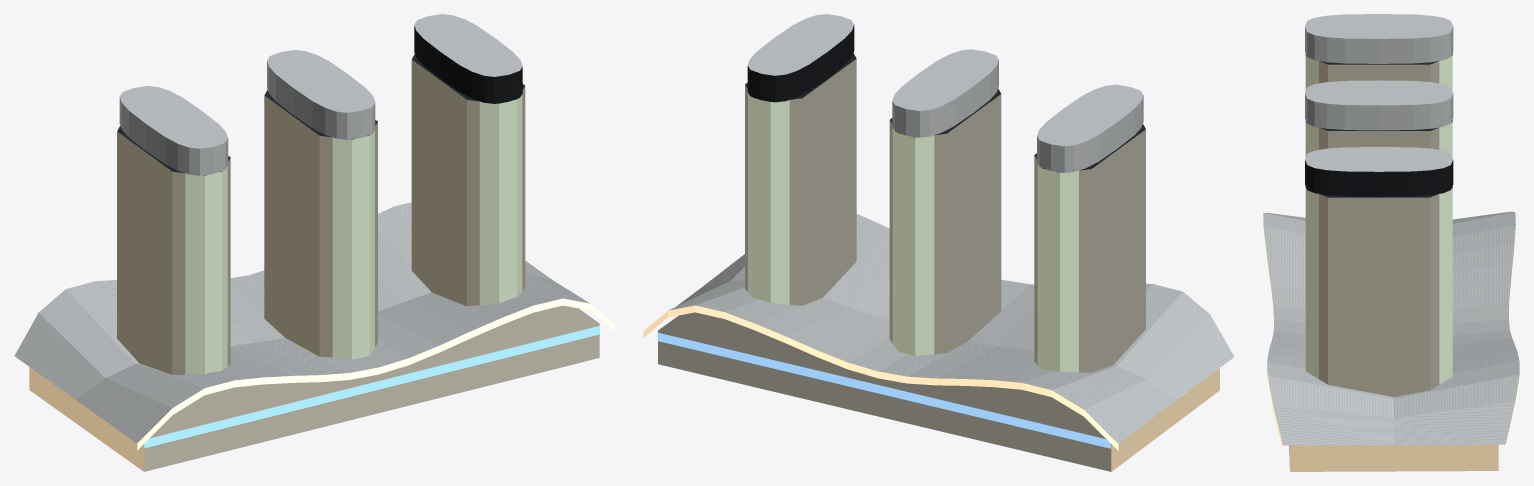
Rendered from centaurus_far.glb.
3 renders of one model, left to right at view 1: azimuth 30°, elevation 25°; view 2: azimuth 150°, elevation 25°; view 3: azimuth 270°, elevation 25°, orthographic. The views are drawn at different scales.
Visible parts, largest first — view 1: m_far_broad, m_mall_roof, m_far_barrel, m_panel_cream, m_crown_metal, m_ribbon_glass, m_roof_fascia, m_hotel_crown, m_entry_glass, m_dark_reveal; view 2: m_far_broad, m_mall_roof, m_far_barrel, m_panel_cream, m_crown_metal, m_ribbon_glass, m_roof_fascia, m_hotel_crown, m_entry_glass, m_dark_reveal; view 3: m_mall_roof, m_far_broad, m_crown_metal, m_far_barrel, m_entry_glass, m_hotel_crown, m_dark_reveal, m_roof_fascia.
Part boxes in pixels (box(x1,y1,x2,y2)): m_far_broad: box(117, 60, 525, 374); m_mall_roof: box(14, 202, 589, 443); m_far_barrel: box(185, 94, 522, 374); m_panel_cream: box(144, 305, 599, 471); m_crown_metal: box(119, 14, 522, 175); m_ribbon_glass: box(144, 326, 599, 448); m_roof_fascia: box(137, 298, 614, 450); m_hotel_crown: box(414, 25, 522, 103); m_entry_glass: box(29, 367, 144, 471); m_dark_reveal: box(117, 54, 524, 175); m_far_broad: box(745, 59, 1145, 372); m_mall_roof: box(668, 214, 1234, 443); m_far_barrel: box(748, 93, 1078, 372); m_panel_cream: box(658, 312, 1111, 471); m_crown_metal: box(747, 14, 1143, 172); m_ribbon_glass: box(657, 332, 1110, 448); m_roof_fascia: box(643, 305, 1118, 450); m_hotel_crown: box(747, 25, 854, 102); m_entry_glass: box(1111, 368, 1219, 471); m_dark_reveal: box(745, 53, 1145, 172); m_mall_roof: box(1263, 211, 1519, 445); m_far_broad: box(1319, 61, 1439, 396); m_crown_metal: box(1305, 14, 1453, 171); m_far_barrel: box(1305, 55, 1452, 384); m_entry_glass: box(1290, 444, 1498, 471); m_hotel_crown: box(1305, 160, 1453, 196); m_dark_reveal: box(1305, 53, 1452, 197); m_roof_fascia: box(1263, 226, 1519, 451).
Size of the model in its own units: 187 by 110 by 92.95.
Materials: 10 (1 with a texture image).
